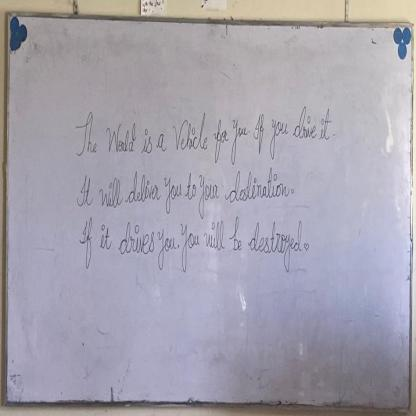Handwritten text: (73, 100, 332, 166), (78, 212, 307, 281), (74, 164, 294, 216)
